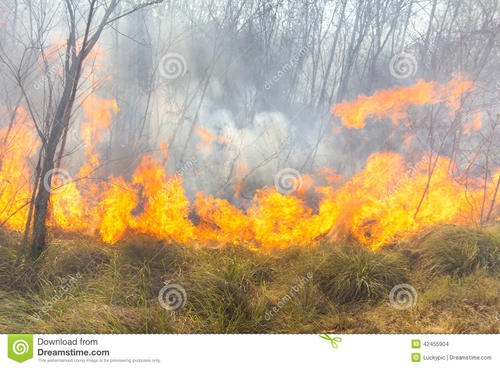fire: (2, 77, 500, 246)
